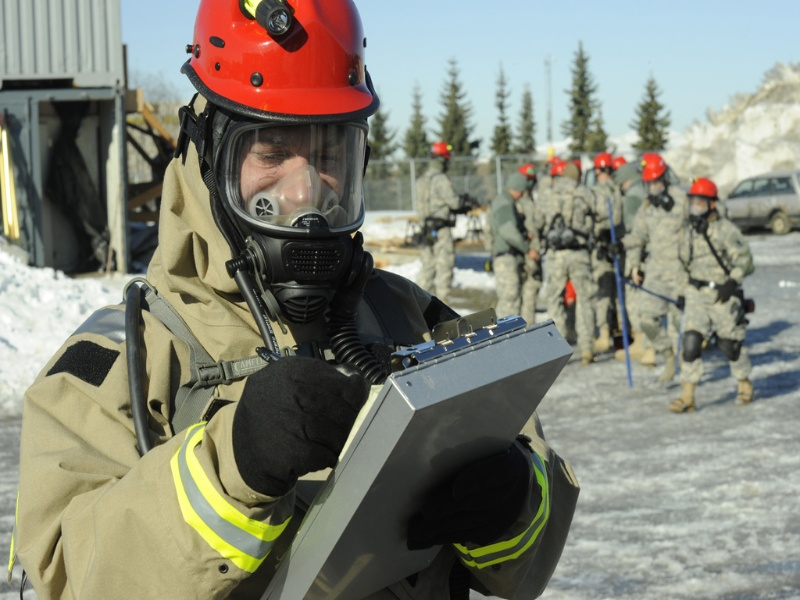helmet: (188, 1, 387, 119), (688, 177, 722, 203), (642, 158, 668, 179)
